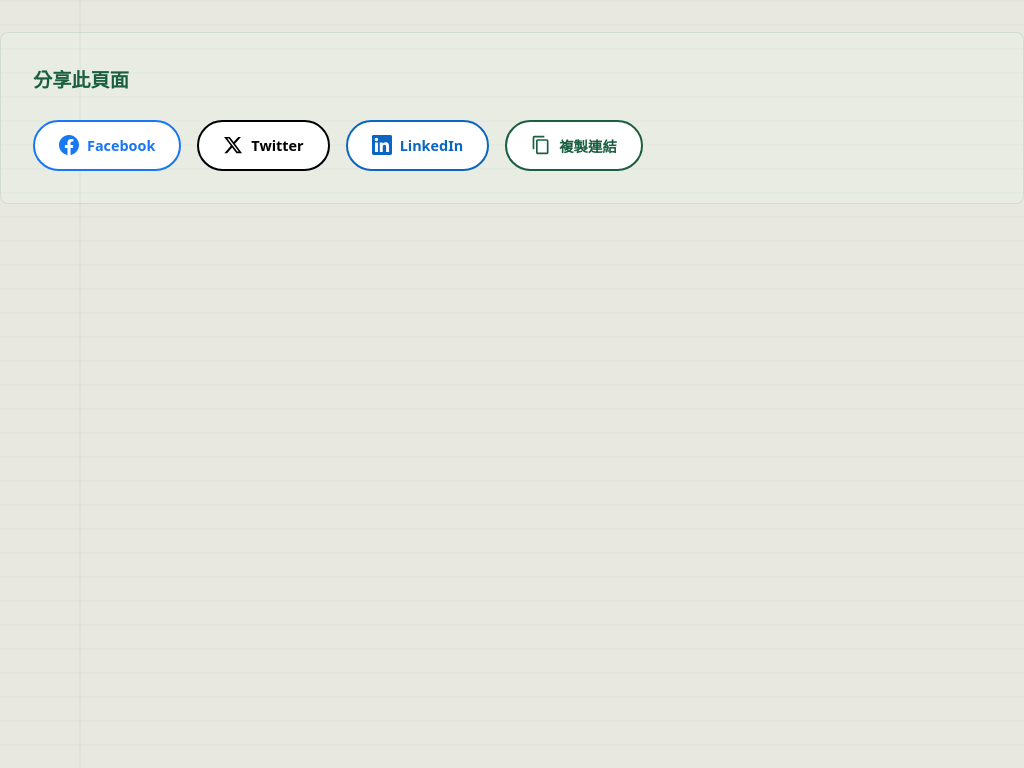
Test: SocialShare › should show "copied" state after successful copy
Click the button with class "copy".
click(574, 145)  # box [505,120,643,171]
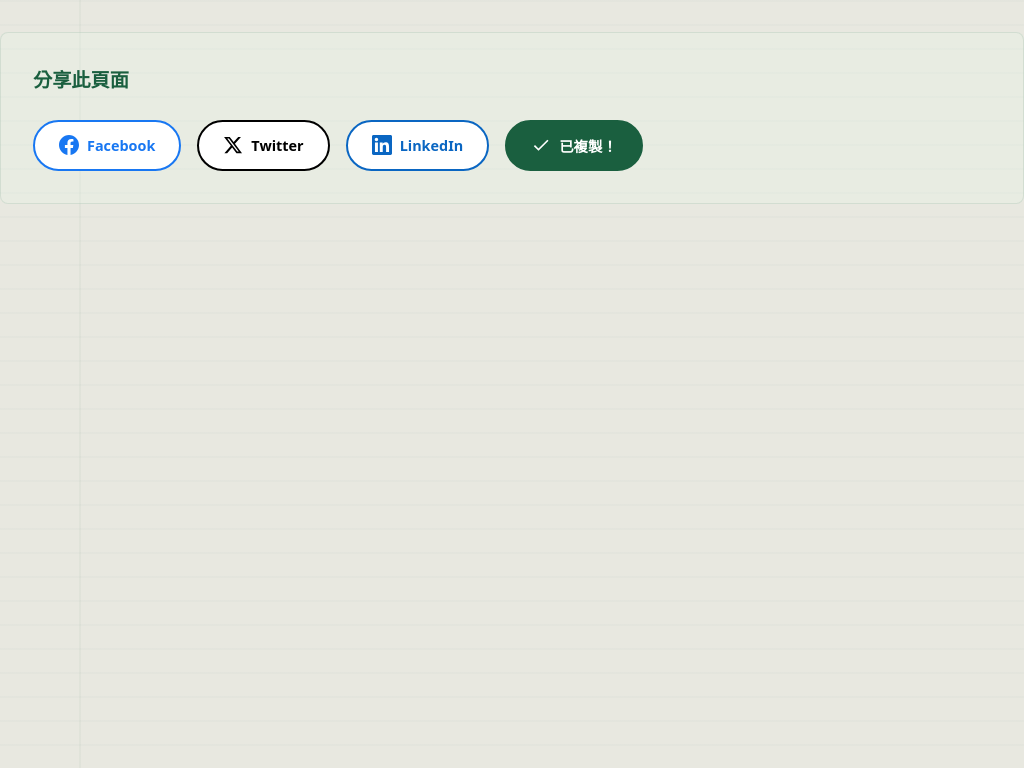
expect the button with class "copy" reads "已複製！": met, box [505,120,643,171]
